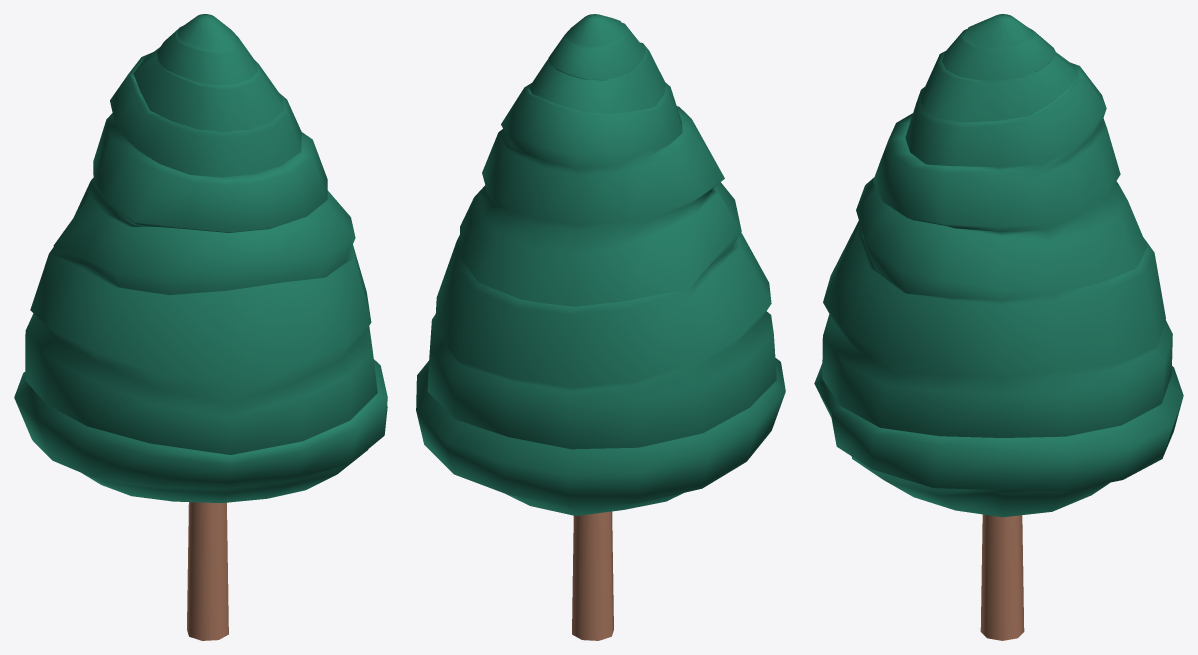
The model's file is TreeB1.fbx.
3 views of the same model, side by side, from view 1: azimuth 30°, elevation 25°; view 2: azimuth 150°, elevation 25°; view 3: azimuth 270°, elevation 25° (orthographic).
Parts seen in each view (by area): view 1: Tree_B1; view 2: Tree_B1; view 3: Tree_B1.
Part boxes in pixels (x1,y1,x2,y2): Tree_B1: (14,14,387,640); Tree_B1: (416,14,785,640); Tree_B1: (814,14,1183,640).
Size of the model in its own units: 242 by 450 by 245.
